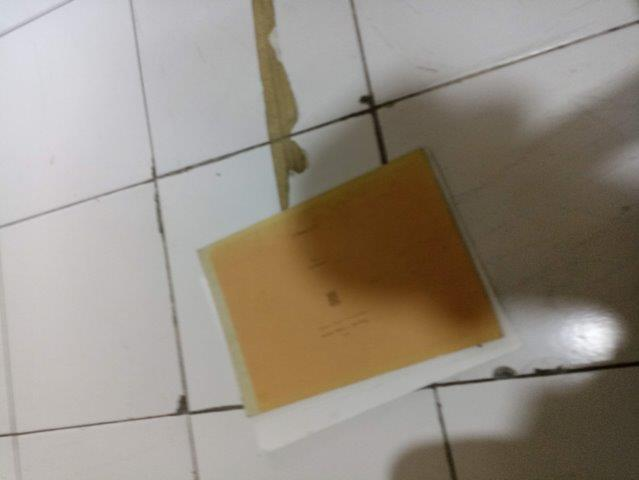kertas: (198, 148, 518, 448)
